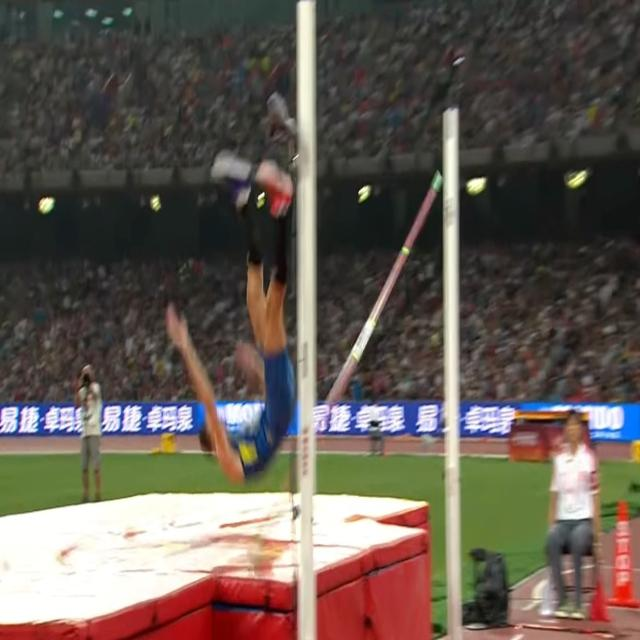land: (166, 160, 292, 478)
